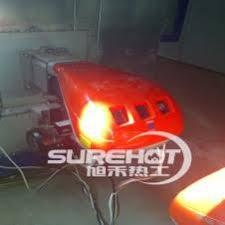fire: (76, 96, 112, 146)
